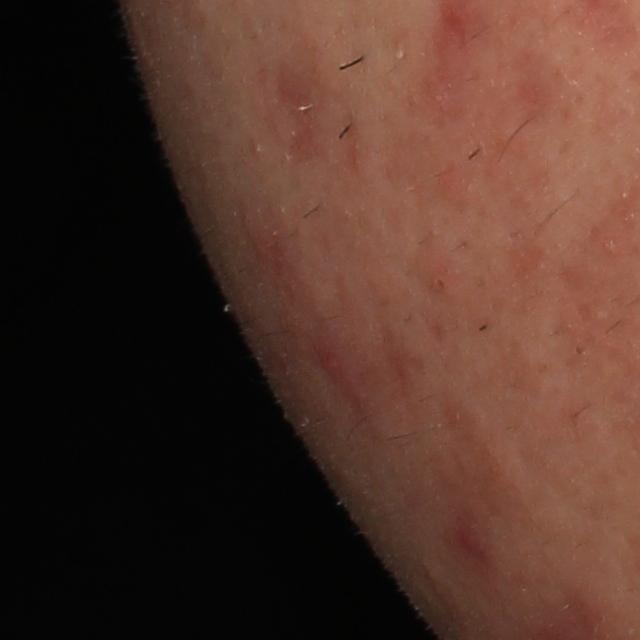atrophic_scar: (262, 57, 328, 166)
papule: (457, 517, 499, 561)
